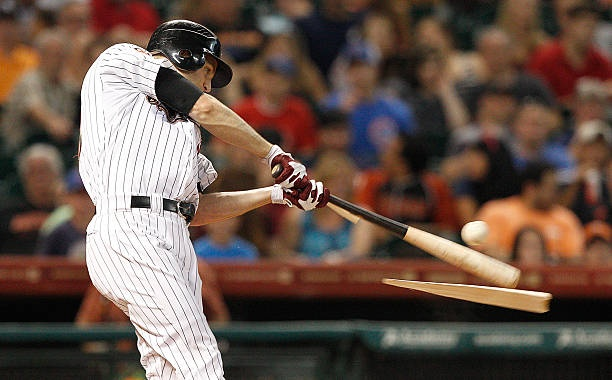bita: (313, 191, 521, 290)
